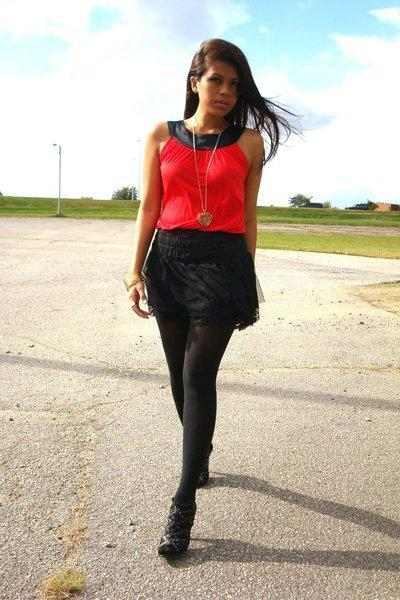shirt: (144, 139, 262, 251)
shoe: (158, 512, 195, 563)
skirt: (142, 227, 259, 330)
